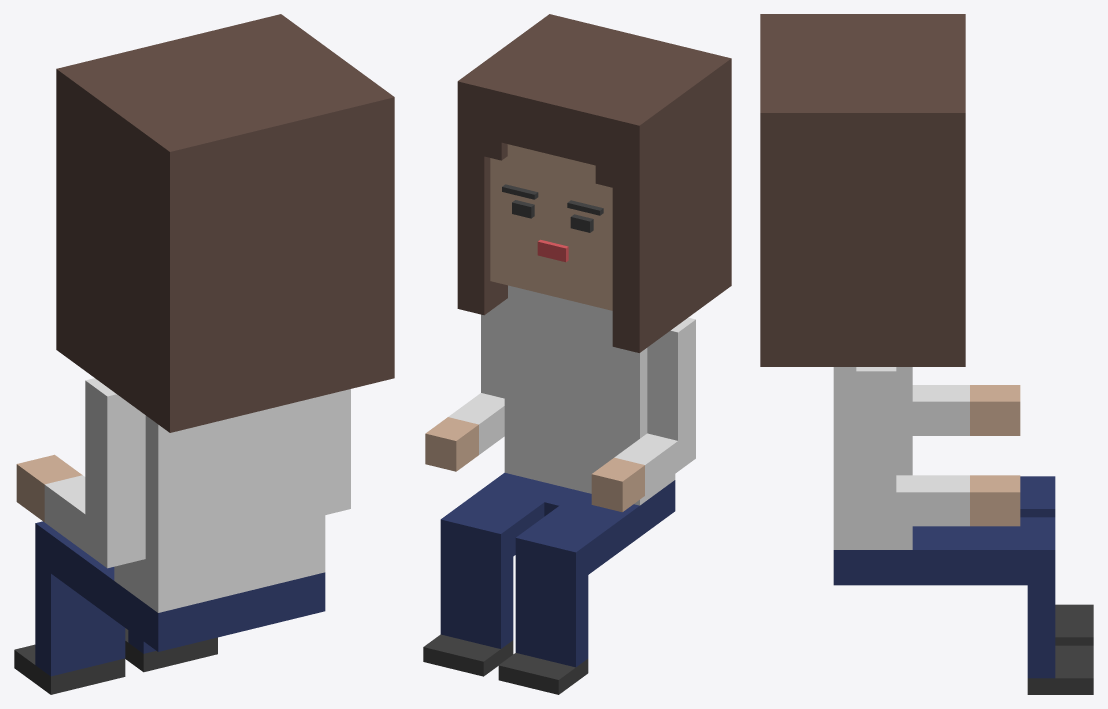
The model's file is customerSit2-1.fbx.
3 renders of one model, left to right at view 1: azimuth 30°, elevation 25°; view 2: azimuth 150°, elevation 25°; view 3: azimuth 270°, elevation 25°, orthographic. The views are drawn at different scales.
Visible parts, largest first — view 1: customerSit; view 2: customerSit; view 3: customerSit.
Part boxes in pixels (left/top/right/bottom): customerSit: left=14, top=14, right=394, bottom=694; customerSit: left=423, top=14, right=731, bottom=694; customerSit: left=760, top=14, right=1093, bottom=694.
Bounding box in the file's own units: 19.99 × 51.65 × 26.26.
